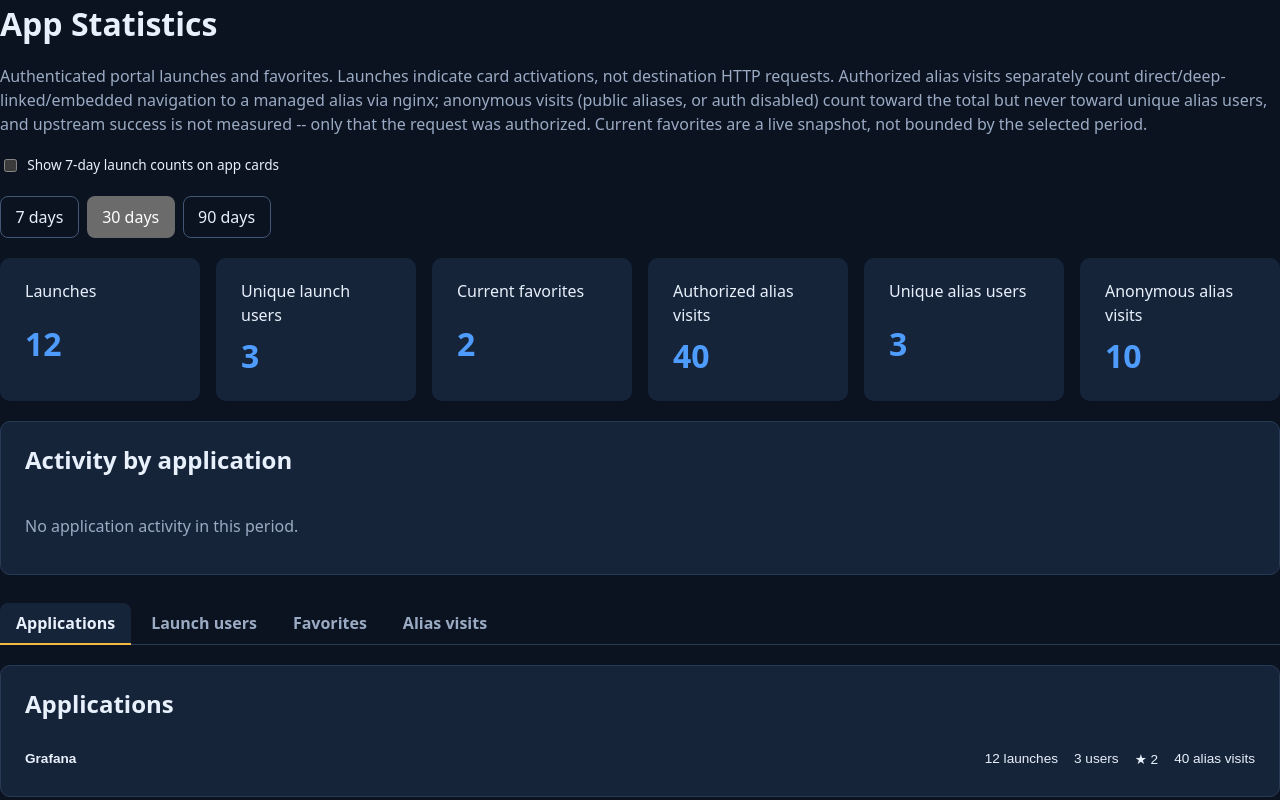
Test case: AppStatisticsView › shows authenticated alias users and an anonymous-visits note, never a unique anonymous user
This screenshot has width=1280, height=800.
Expected: the text "Authorized alias visits" is shown, x1=673 y1=280 x2=794 y2=326
Click the button "Alias visits": (445,624) x1=387 y1=603 x2=503 y2=645
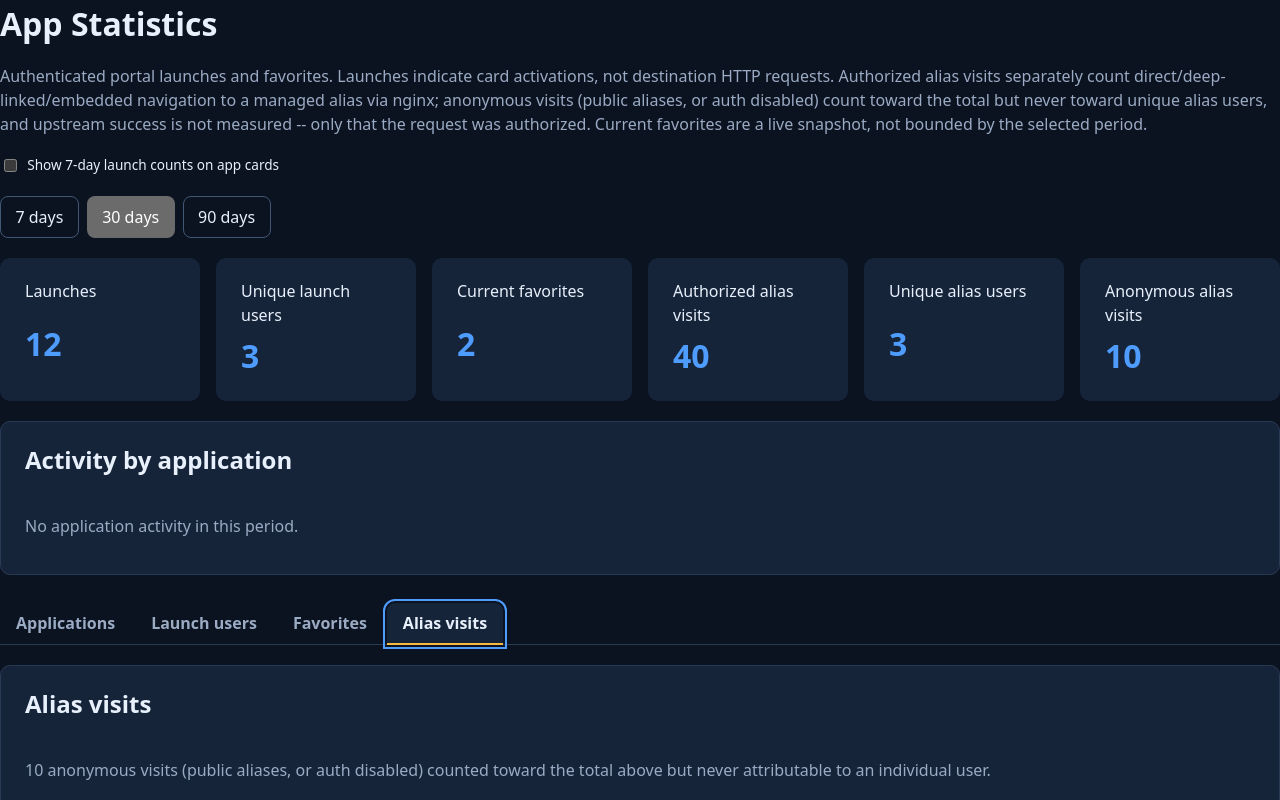
Expected: the text "10 anonymous visits" is shown, x1=25 y1=759 x2=991 y2=781
